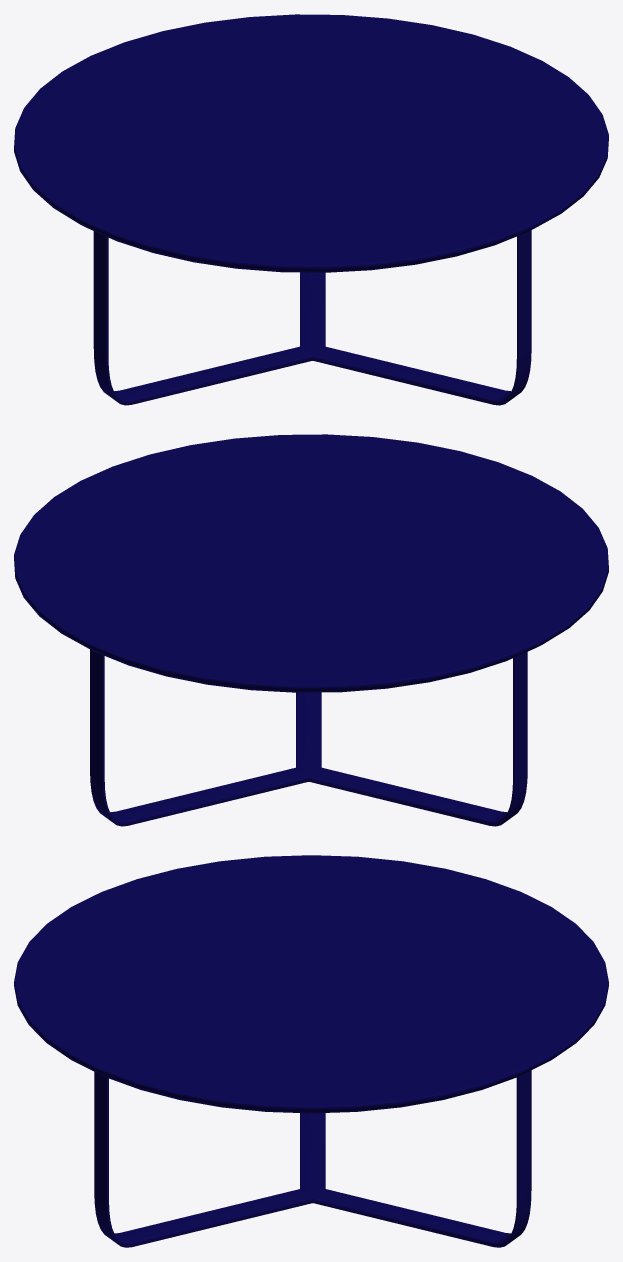
The model's file is Blue_table_1m1.glb.
The picture shows the model from 3 angles, top to bottom: view 1: azimuth 30°, elevation 25°; view 2: azimuth 150°, elevation 25°; view 3: azimuth 270°, elevation 25°; orthographic projection.
Parts seen in each view (by area): view 1: Cylinder005; view 2: Cylinder005; view 3: Cylinder005.
Part boxes in pixels (left/top/right/bottom): Cylinder005: left=14, top=14, right=608, bottom=405; Cylinder005: left=14, top=434, right=608, bottom=826; Cylinder005: left=14, top=855, right=608, bottom=1247.
Bounding box in the file's own units: 2.5 × 1 × 2.5.
